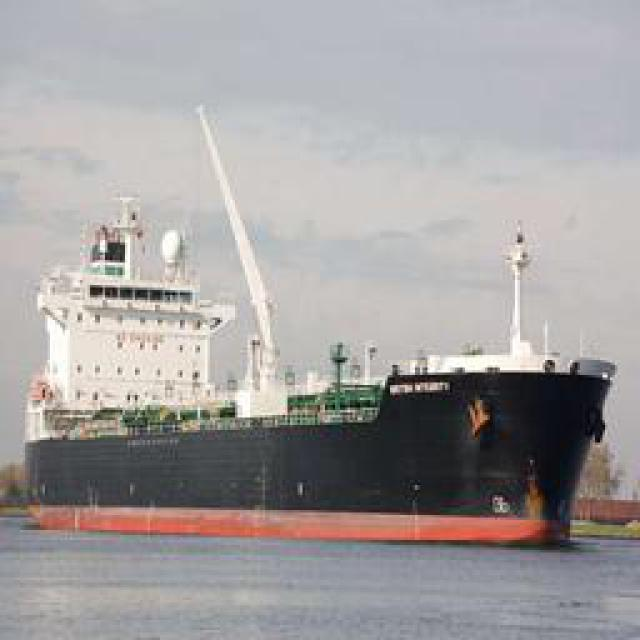Ship: (21, 110, 621, 545)
